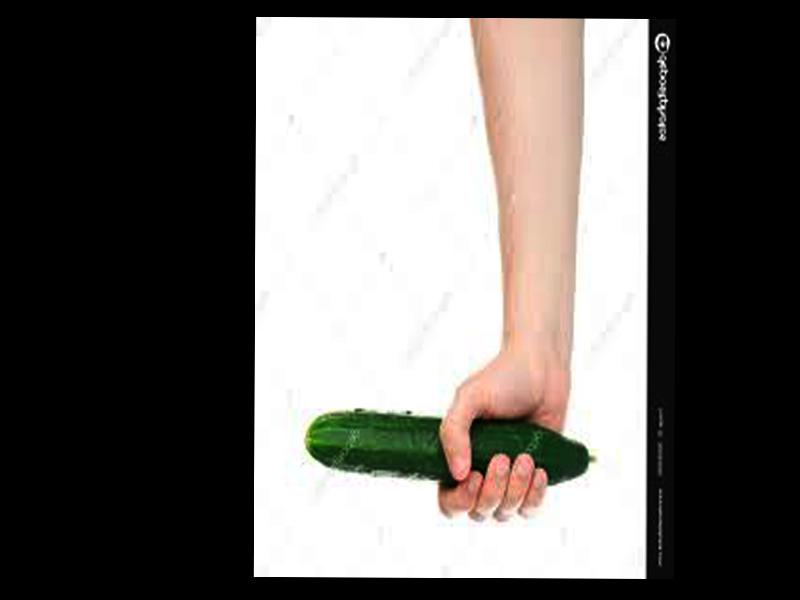Cucumber: (306, 411, 594, 486)
